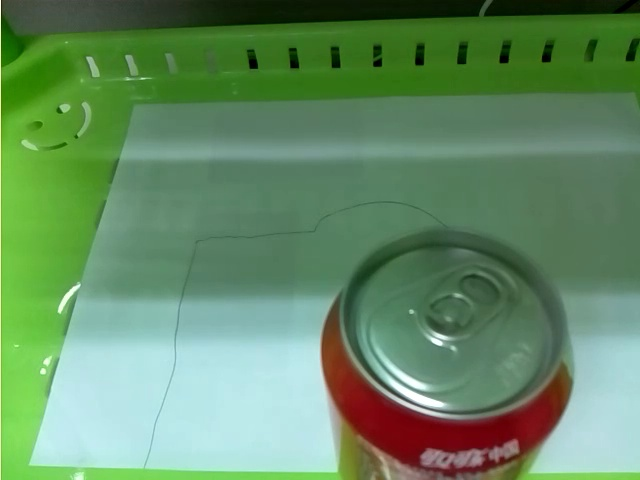cocacola: (314, 229, 576, 480)
